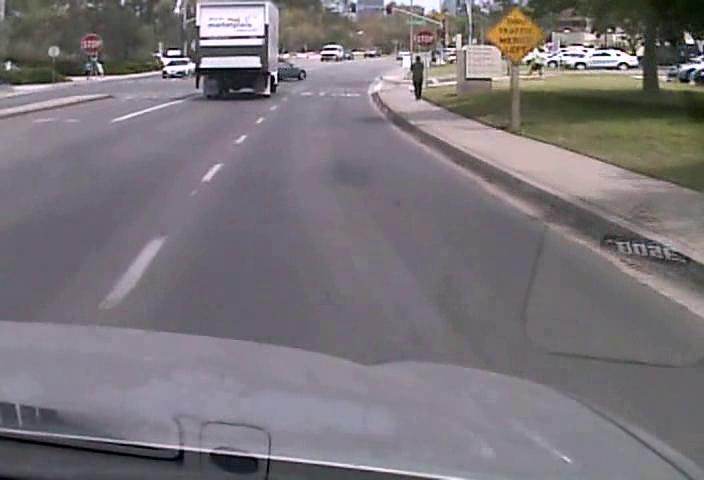stop: (415, 29, 435, 49)
